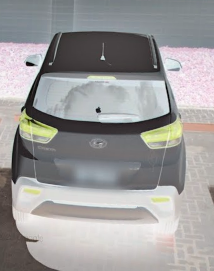car: (10, 31, 188, 228)
